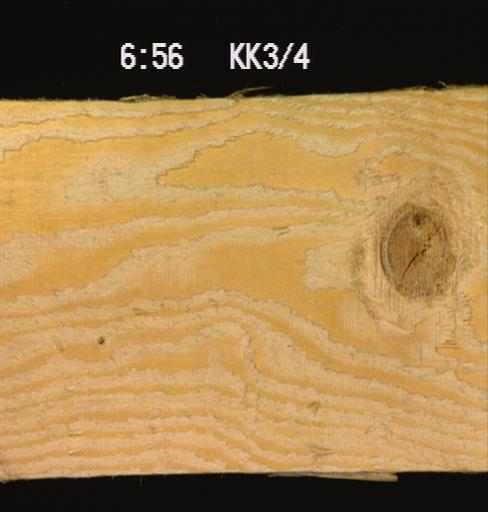sound_knot: (376, 198, 460, 302)
